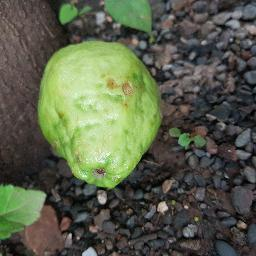Good_guava: (37, 35, 162, 193)
